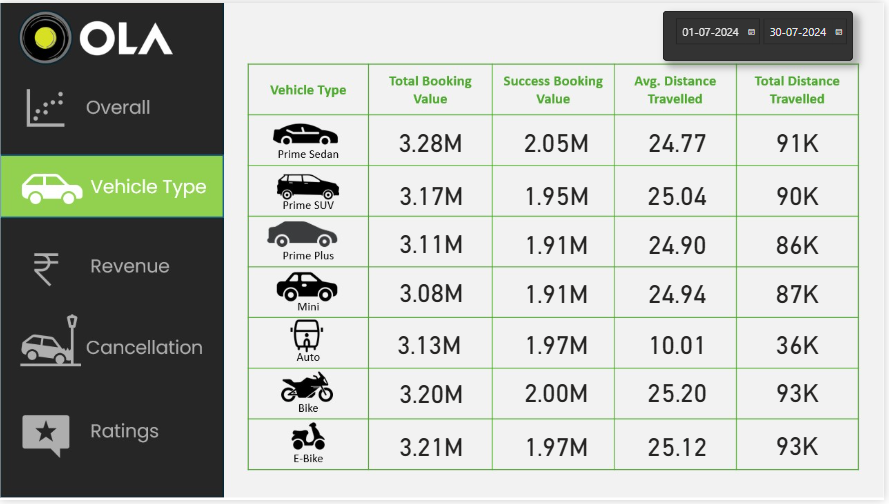

The dashboard page shown, as its layout file describes it:
{"tool":"powerbi","page":{"name":"Vehicle Type","canvas":[1280,720],"ordinal":1},"visuals":[{"type":"actionButton","box":[0,331.7,324.8,107.4],"z":0},{"type":"actionButton","box":[0,450.1,324.8,107.4],"z":1000},{"type":"actionButton","box":[0,439.1,324.8,107.4],"z":2000},{"type":"actionButton","box":[0,439.1,324.8,107.4],"z":3000},{"type":"actionButton","box":[0,439.1,324.8,107.4],"z":4000},{"type":"actionButton","box":[0,107.4,324.8,96.3],"z":5000},{"type":"actionButton","box":[0,439.1,324.8,117],"z":6000},{"type":"actionButton","box":[0,439.1,324.8,118.4],"z":7000},{"type":"actionButton","box":[0,573.9,324.8,107.4],"z":8000},{"type":"card","fields":{"Values":["Sum(OLA Bookings-40000-Rows(July).Booking_Value)"]},"box":[544.3,309.1,159.6,75.6],"z":9000},{"type":"card","fields":{"Values":["Sum(OLA Bookings-40000-Rows(July).Booking_Value)"]},"box":[544.3,245.2,159.6,63.8],"z":10000},{"type":"card","fields":{"Values":["Sum(OLA Bookings-40000-Rows(July).Booking_Value)"]},"box":[544.3,384.7,159.6,65.5],"z":11000},{"type":"card","fields":{"Values":["Sum(OLA Bookings-40000-Rows(July).Booking_Value)"]},"box":[542.6,460.3,159.6,63.8],"z":12000},{"type":"card","fields":{"Values":["Sum(OLA Bookings-40000-Rows(July).Booking_Value)"]},"box":[544.3,524.1,159.6,77.3],"z":13000},{"type":"card","fields":{"Values":["Sum(OLA Bookings-40000-Rows(July).Booking_Value)"]},"box":[544.3,601.4,159.6,77.3],"z":14000},{"type":"card","fields":{"Values":["Sum(OLA Bookings-40000-Rows(July).Booking_Value)"]},"box":[543.7,167.5,160.2,64.7],"z":15000},{"type":"card","fields":{"Values":["Sum(OLA Bookings-40000-Rows(July).Booking_Value)"]},"box":[725.7,168,159.6,63.8],"z":16000},{"type":"card","fields":{"Values":["Sum(OLA Bookings-40000-Rows(July).Booking_Value)"]},"box":[725.7,245.2,159.6,63.8],"z":17000},{"type":"card","fields":{"Values":["Sum(OLA Bookings-40000-Rows(July).Booking_Value)"]},"box":[725.7,315.8,159.6,63.8],"z":18000},{"type":"card","fields":{"Values":["Sum(OLA Bookings-40000-Rows(July).Booking_Value)"]},"box":[725.7,386.4,159.6,63.8],"z":19000},{"type":"card","fields":{"Values":["Sum(OLA Bookings-40000-Rows(July).Booking_Value)"]},"box":[725.7,460.3,159.6,63.8],"z":20000},{"type":"card","fields":{"Values":["Sum(OLA Bookings-40000-Rows(July).Booking_Value)"]},"box":[725.7,530.8,159.6,63.8],"z":21000},{"type":"card","fields":{"Values":["Sum(OLA Bookings-40000-Rows(July).Booking_Value)"]},"box":[725.7,608.1,159.6,63.8],"z":22000},{"type":"card","fields":{"Values":["Avg(OLA Bookings-40000-Rows(July).Ride_Distance)"]},"box":[902,168,159.6,63.8],"z":23000},{"type":"card","fields":{"Values":["Avg(OLA Bookings-40000-Rows(July).Ride_Distance)"]},"box":[902,245.2,159.6,63.8],"z":24000},{"type":"card","fields":{"Values":["Avg(OLA Bookings-40000-Rows(July).Ride_Distance)"]},"box":[902,315.8,159.6,63.8],"z":25000},{"type":"card","fields":{"Values":["Avg(OLA Bookings-40000-Rows(July).Ride_Distance)"]},"box":[902,386.4,159.6,63.8],"z":26000},{"type":"card","fields":{"Values":["Avg(OLA Bookings-40000-Rows(July).Ride_Distance)"]},"box":[902,460.3,159.6,63.8],"z":27000},{"type":"card","fields":{"Values":["Sum(OLA Bookings-40000-Rows(July).Ride_Distance)"]},"box":[1075.1,530.8,159.6,63.8],"z":28000},{"type":"card","fields":{"Values":["Avg(OLA Bookings-40000-Rows(July).Ride_Distance)"]},"box":[902,608.1,159.6,63.8],"z":29000},{"type":"card","fields":{"Values":["Sum(OLA Bookings-40000-Rows(July).Ride_Distance)"]},"box":[1075.1,168,159.6,63.8],"z":30000},{"type":"card","fields":{"Values":["Sum(OLA Bookings-40000-Rows(July).Ride_Distance)"]},"box":[1075.1,245.2,159.6,63.8],"z":31000},{"type":"card","fields":{"Values":["Sum(OLA Bookings-40000-Rows(July).Ride_Distance)"]},"box":[1075.1,315.8,159.6,63.8],"z":32000},{"type":"card","fields":{"Values":["Sum(OLA Bookings-40000-Rows(July).Ride_Distance)"]},"box":[1075.1,386.4,159.6,63.8],"z":33000},{"type":"card","fields":{"Values":["Sum(OLA Bookings-40000-Rows(July).Ride_Distance)"]},"box":[1075.1,460.3,159.6,63.8],"z":34000},{"type":"card","fields":{"Values":["Avg(OLA Bookings-40000-Rows(July).Ride_Distance)"]},"box":[902,530.8,159.6,63.8],"z":35000},{"type":"card","fields":{"Values":["Sum(OLA Bookings-40000-Rows(July).Ride_Distance)"]},"box":[1088.5,598,132.7,82.3],"z":36000},{"type":"slicer","fields":{"Values":["OLA Bookings-40000-Rows(July).Date"]},"box":[961,11.8,274.8,72],"z":37000}]}

Visuals, with their boxes on the page's 1280x720 design canvas (x1, y1, x2, y2). These are canvas units, not pixel positions in the 889x504 screenshot, which may show the page scaled, cropped or inside an application window:
actionButton: left=0, top=332, right=325, bottom=439
actionButton: left=0, top=450, right=325, bottom=558
actionButton: left=0, top=439, right=325, bottom=546
actionButton: left=0, top=439, right=325, bottom=546
actionButton: left=0, top=439, right=325, bottom=546
actionButton: left=0, top=107, right=325, bottom=204
actionButton: left=0, top=439, right=325, bottom=556
actionButton: left=0, top=439, right=325, bottom=558
actionButton: left=0, top=574, right=325, bottom=681
card - Sum(OLA Bookings-40000-Rows(July).Booking_Value): left=544, top=309, right=704, bottom=385
card - Sum(OLA Bookings-40000-Rows(July).Booking_Value): left=544, top=245, right=704, bottom=309
card - Sum(OLA Bookings-40000-Rows(July).Booking_Value): left=544, top=385, right=704, bottom=450
card - Sum(OLA Bookings-40000-Rows(July).Booking_Value): left=543, top=460, right=702, bottom=524
card - Sum(OLA Bookings-40000-Rows(July).Booking_Value): left=544, top=524, right=704, bottom=601
card - Sum(OLA Bookings-40000-Rows(July).Booking_Value): left=544, top=601, right=704, bottom=679
card - Sum(OLA Bookings-40000-Rows(July).Booking_Value): left=544, top=168, right=704, bottom=232
card - Sum(OLA Bookings-40000-Rows(July).Booking_Value): left=726, top=168, right=885, bottom=232
card - Sum(OLA Bookings-40000-Rows(July).Booking_Value): left=726, top=245, right=885, bottom=309
card - Sum(OLA Bookings-40000-Rows(July).Booking_Value): left=726, top=316, right=885, bottom=380
card - Sum(OLA Bookings-40000-Rows(July).Booking_Value): left=726, top=386, right=885, bottom=450
card - Sum(OLA Bookings-40000-Rows(July).Booking_Value): left=726, top=460, right=885, bottom=524
card - Sum(OLA Bookings-40000-Rows(July).Booking_Value): left=726, top=531, right=885, bottom=595
card - Sum(OLA Bookings-40000-Rows(July).Booking_Value): left=726, top=608, right=885, bottom=672
card - Avg(OLA Bookings-40000-Rows(July).Ride_Distance): left=902, top=168, right=1062, bottom=232
card - Avg(OLA Bookings-40000-Rows(July).Ride_Distance): left=902, top=245, right=1062, bottom=309
card - Avg(OLA Bookings-40000-Rows(July).Ride_Distance): left=902, top=316, right=1062, bottom=380
card - Avg(OLA Bookings-40000-Rows(July).Ride_Distance): left=902, top=386, right=1062, bottom=450
card - Avg(OLA Bookings-40000-Rows(July).Ride_Distance): left=902, top=460, right=1062, bottom=524
card - Sum(OLA Bookings-40000-Rows(July).Ride_Distance): left=1075, top=531, right=1235, bottom=595
card - Avg(OLA Bookings-40000-Rows(July).Ride_Distance): left=902, top=608, right=1062, bottom=672
card - Sum(OLA Bookings-40000-Rows(July).Ride_Distance): left=1075, top=168, right=1235, bottom=232
card - Sum(OLA Bookings-40000-Rows(July).Ride_Distance): left=1075, top=245, right=1235, bottom=309
card - Sum(OLA Bookings-40000-Rows(July).Ride_Distance): left=1075, top=316, right=1235, bottom=380
card - Sum(OLA Bookings-40000-Rows(July).Ride_Distance): left=1075, top=386, right=1235, bottom=450
card - Sum(OLA Bookings-40000-Rows(July).Ride_Distance): left=1075, top=460, right=1235, bottom=524
card - Avg(OLA Bookings-40000-Rows(July).Ride_Distance): left=902, top=531, right=1062, bottom=595
card - Sum(OLA Bookings-40000-Rows(July).Ride_Distance): left=1088, top=598, right=1221, bottom=680
slicer - OLA Bookings-40000-Rows(July).Date: left=961, top=12, right=1236, bottom=84
